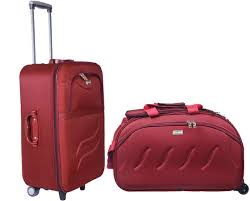suitcase: (15, 1, 108, 201)
